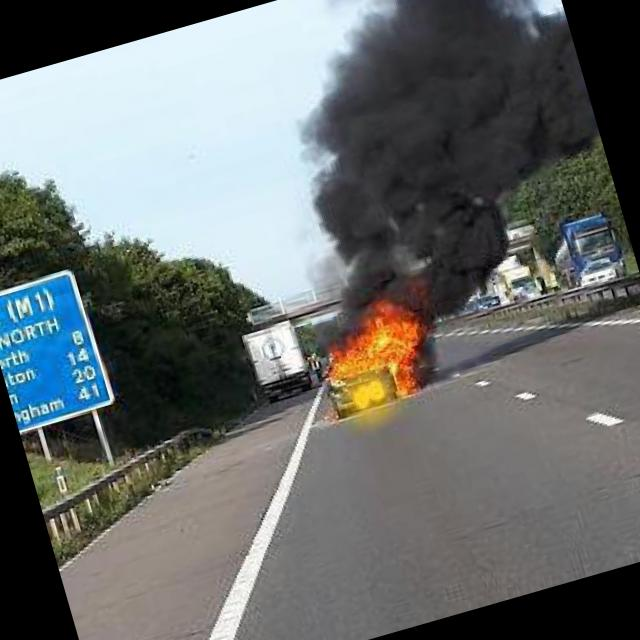fire: (315, 298, 437, 416)
smoke: (247, 0, 636, 346)
